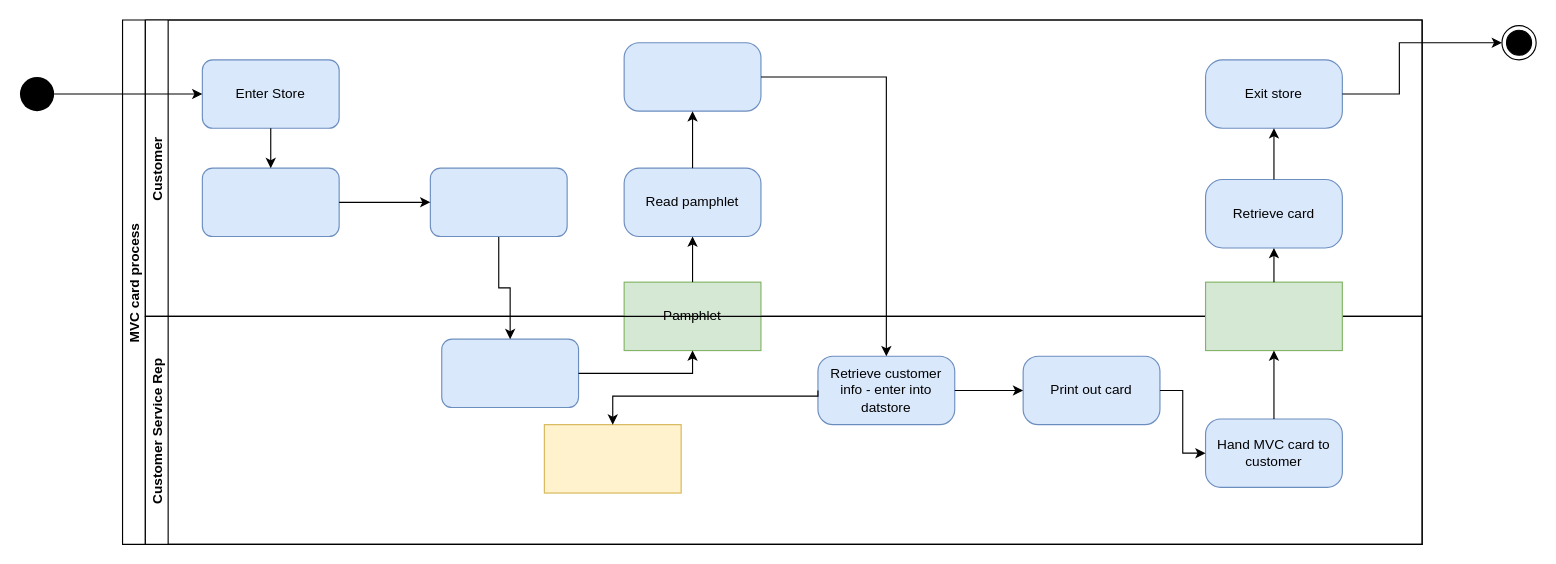
This 1556x564 diagram has some shape labels left out. Each missing label, with the centre of its shape:
Discuss with customer service rep what is needed for MVC card: the point at 498,202
Give customer pamphlet containing all information for MVC card: the point at 510,373
Give customer service rep required information: the point at 692,76
MVC <<datastore>>: the point at 612,458
MVC Card: the point at 1273,316
Proceed to customer service desk: the point at 270,202
